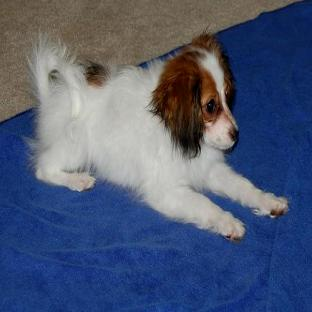Animal: (29, 33, 289, 240)
